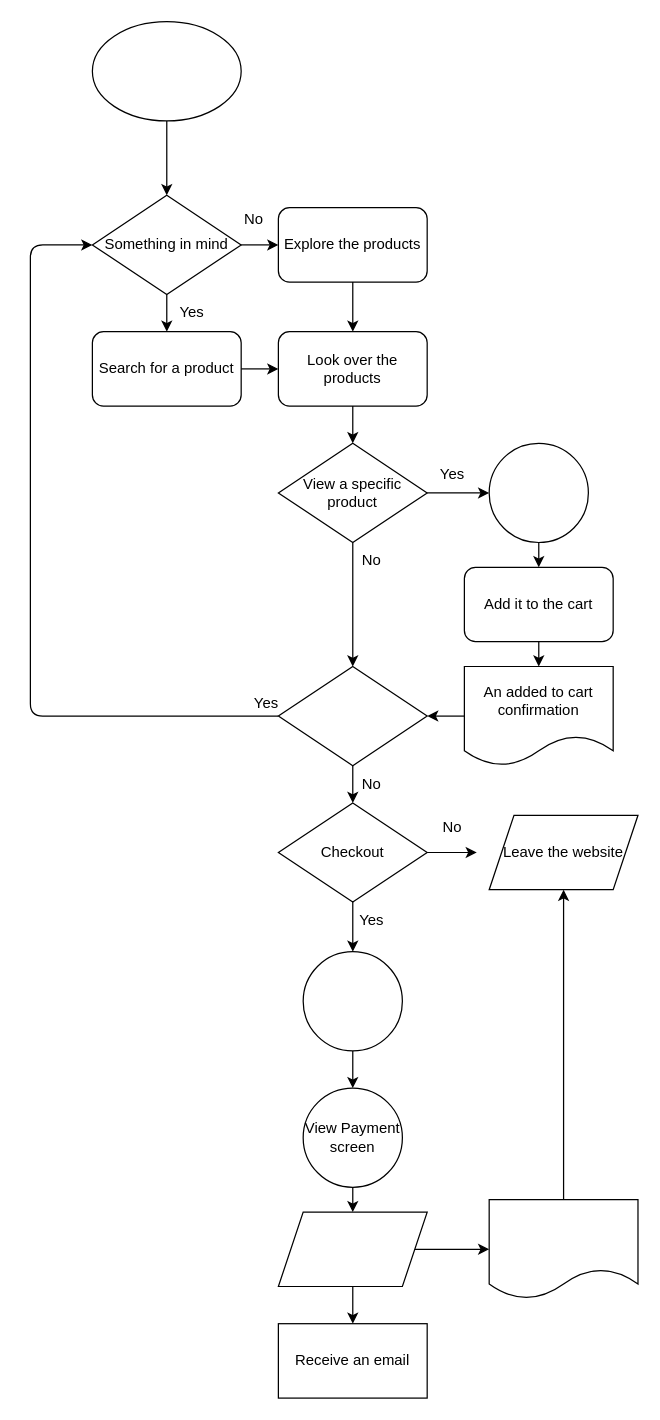
This 660x1420 diagram has some shape labels left out. Each missing label, with the centre of its shape:
"An order confirmation" goes at point 563,1248.
"Continue shopping" goes at point 352,715.
"Entering the website" goes at point 166,70.
"Payment infromation" goes at point 352,1248.
"Product's webpage" goes at point 538,492.
"View Cart screen" goes at point 352,1000.
